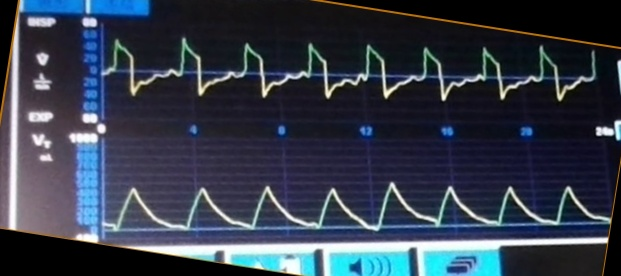Accumulation Flow: (105, 34, 597, 110)
Volume: (104, 154, 607, 235)
